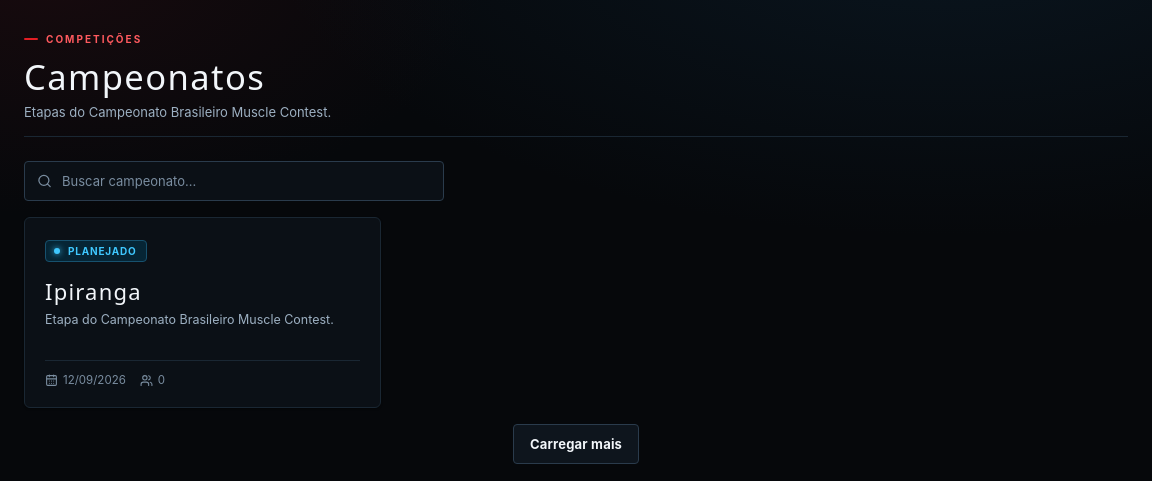
Scenario: tela de Campeonatos › a busca vai para o servidor — e não filtra só o que já estava na tela
This screenshot has width=1152, height=481.
expect the heading "Ipiranga" is shown: met, box left=45, top=276, right=142, bottom=306
Type "Mercosul" into the field labelled "Buscar campeonato" at (246, 181), box left=60, top=162, right=431, bottom=200
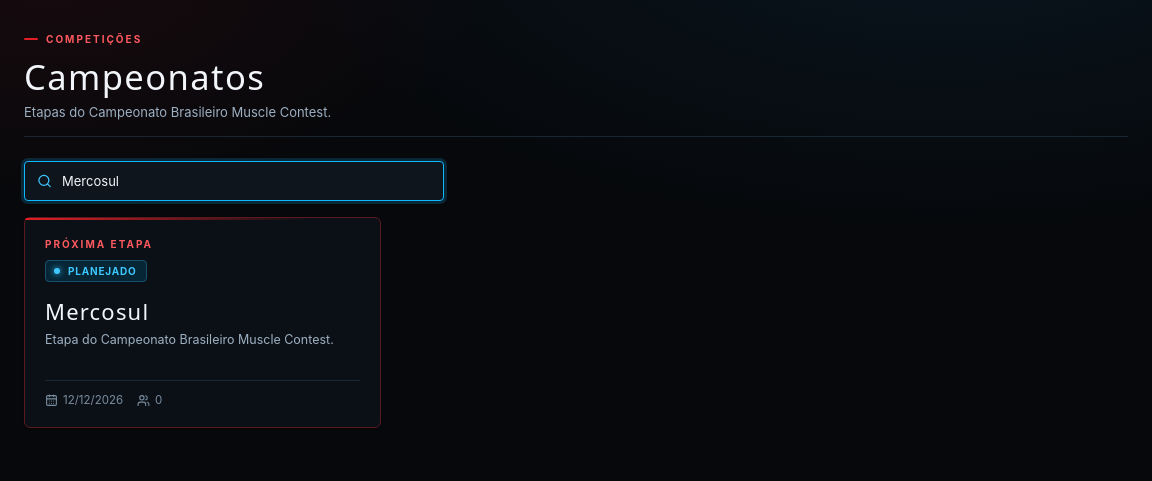
expect the heading "Mercosul" is shown: met, box left=45, top=296, right=149, bottom=326
